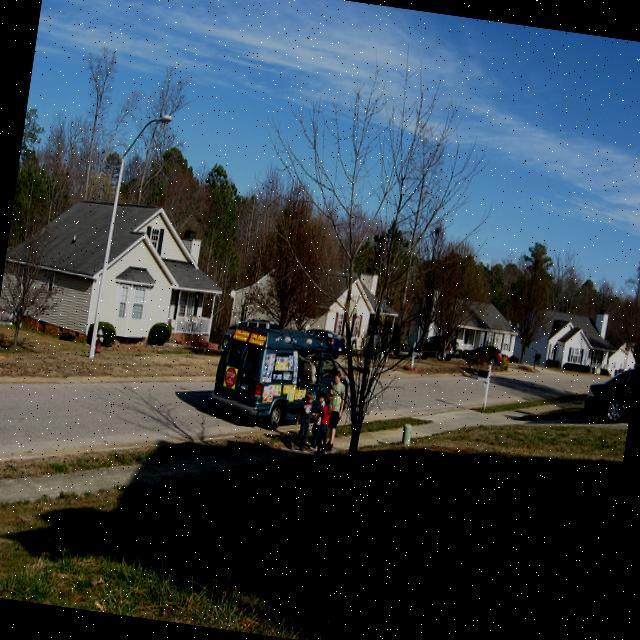fire_hydrant: (94, 328, 104, 354)
